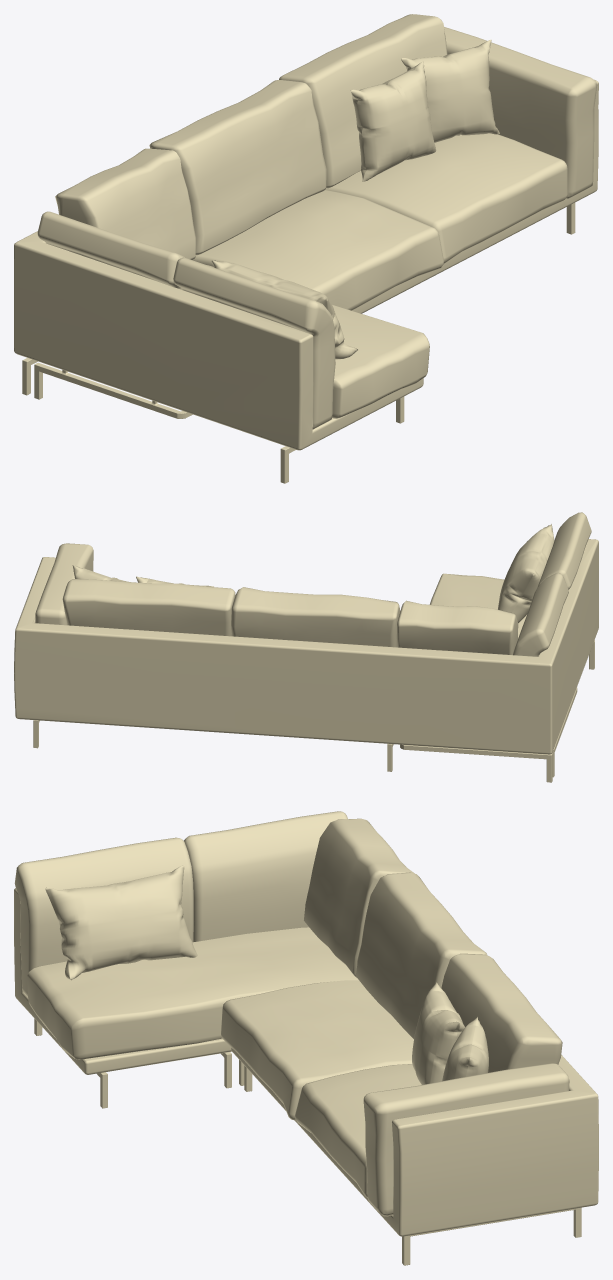
3 views of the same model, one above another, from view 1: azimuth 30°, elevation 25°; view 2: azimuth 150°, elevation 25°; view 3: azimuth 270°, elevation 25° (orthographic). The views are drawn at different scales.
Parts seen in each view (by area): view 1: Sofa_low; view 2: Sofa_low; view 3: Sofa_low.
Part boxes in pixels (bbox=[...]): Sofa_low: bbox=[14, 14, 598, 483]; Sofa_low: bbox=[14, 512, 598, 782]; Sofa_low: bbox=[14, 811, 598, 1265].
Size of the model in its own units: 4.63 by 1.43 by 3.87.
